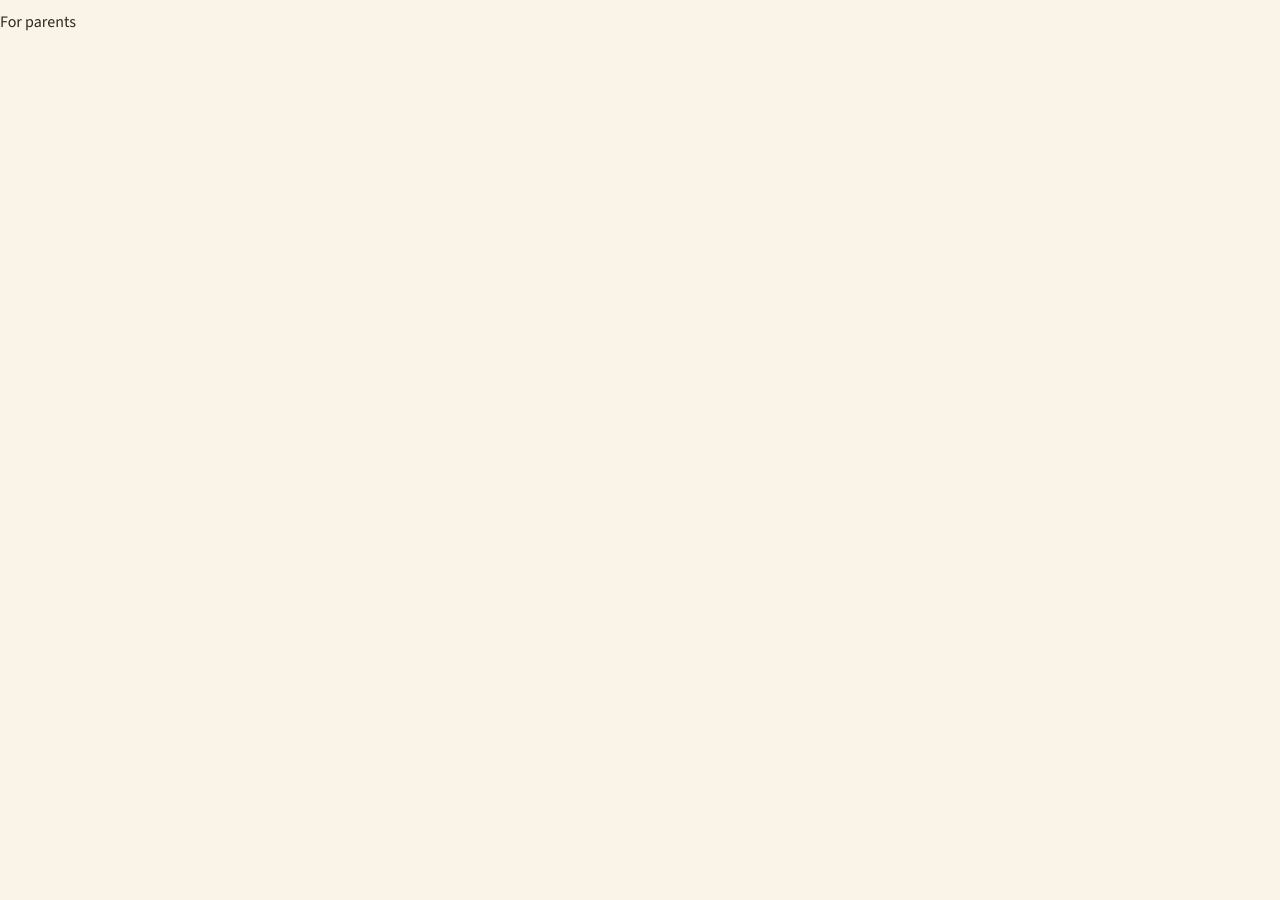
Test case: ParentAreaExit › opens the gate instead of leaving straight away
Click the button "For parents". click: (38, 22)
box: [0, 0, 76, 44]
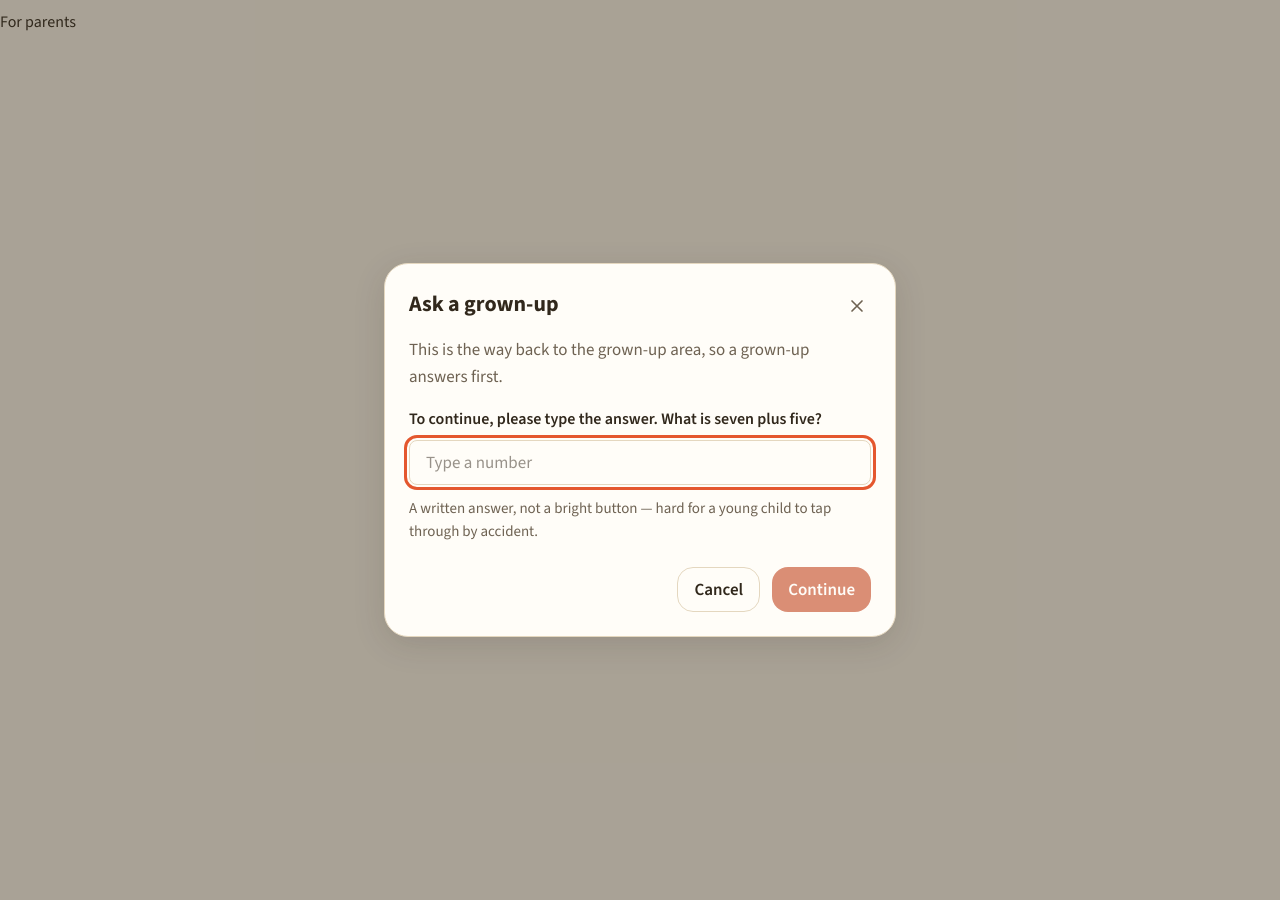
Now the heading "Ask a grown-up" is shown, box [409, 288, 558, 320]
